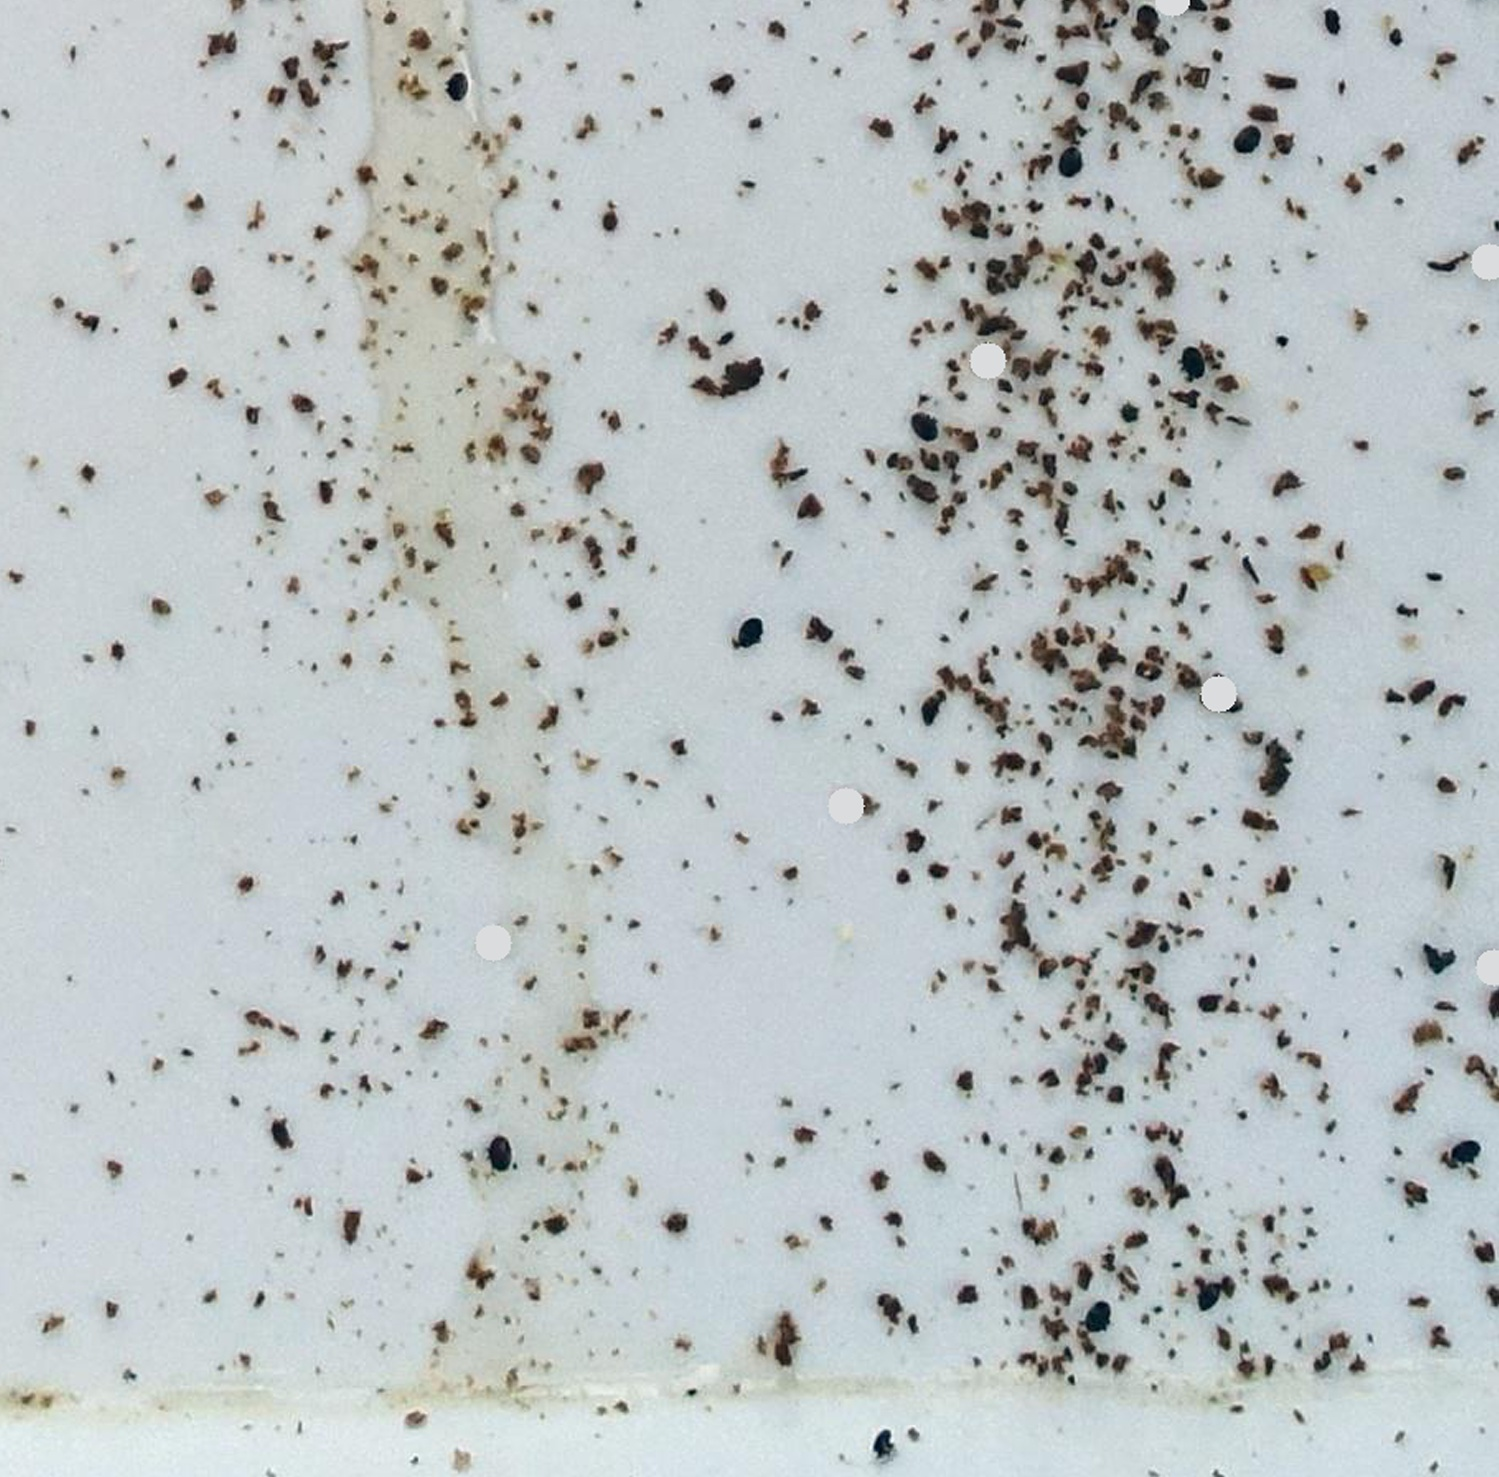Varroa: (1178, 344, 1207, 376), (1195, 1281, 1224, 1309), (189, 269, 216, 298), (737, 615, 764, 642), (1452, 1138, 1477, 1166), (1058, 147, 1086, 173), (1082, 1298, 1109, 1324), (910, 411, 935, 440), (1238, 124, 1264, 150), (1135, 9, 1162, 32), (488, 1142, 513, 1166), (446, 74, 469, 97)
